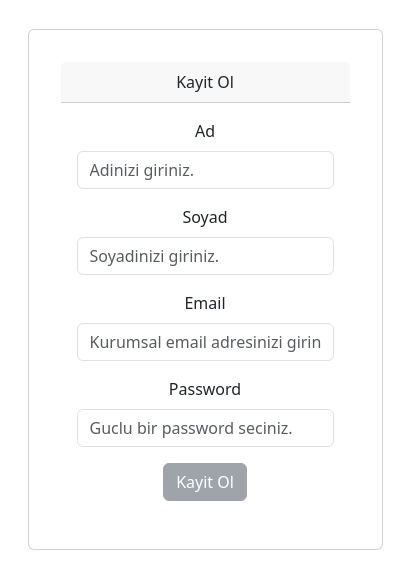
Scenario: Register Page › Error Messages › Surname throws error for 2 chars
Type "oz" into the field labelled "Soyad". click: (206, 256)
box: left=77, top=237, right=334, bottom=275
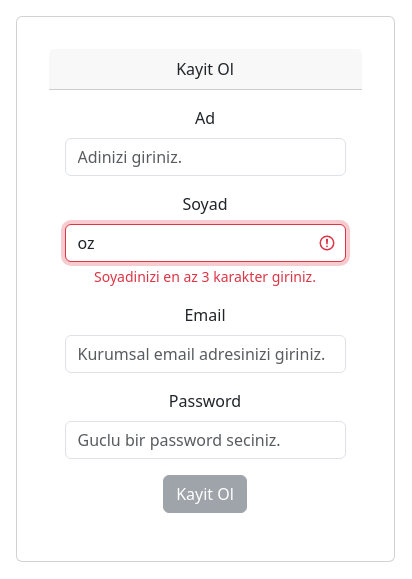
Result: the text "Soyadinizi en az 3 karakter giriniz." is shown at left=94, top=267, right=316, bottom=286
